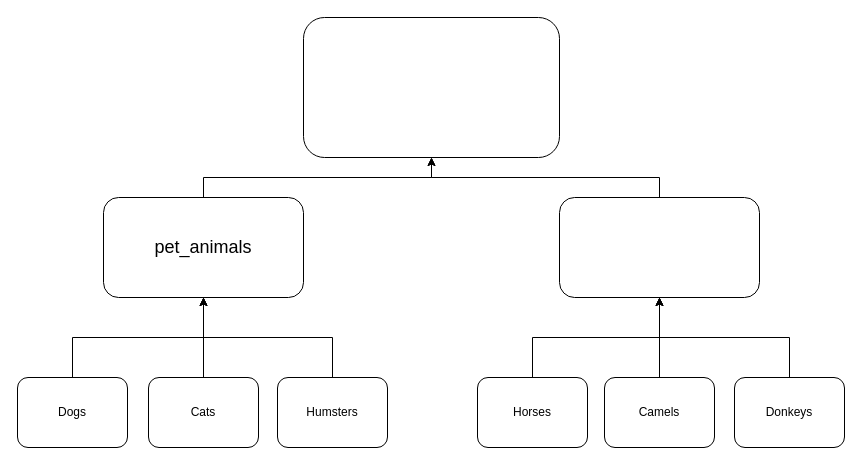
The diagram is 862 pixels wide and 465 high, and some of its shapes have lost their labels. The centre of each missing label's shape, as x and y in pixels:
"Animals friend_of_human" belongs at [431,87].
"pack_animals" belongs at [659,247].
